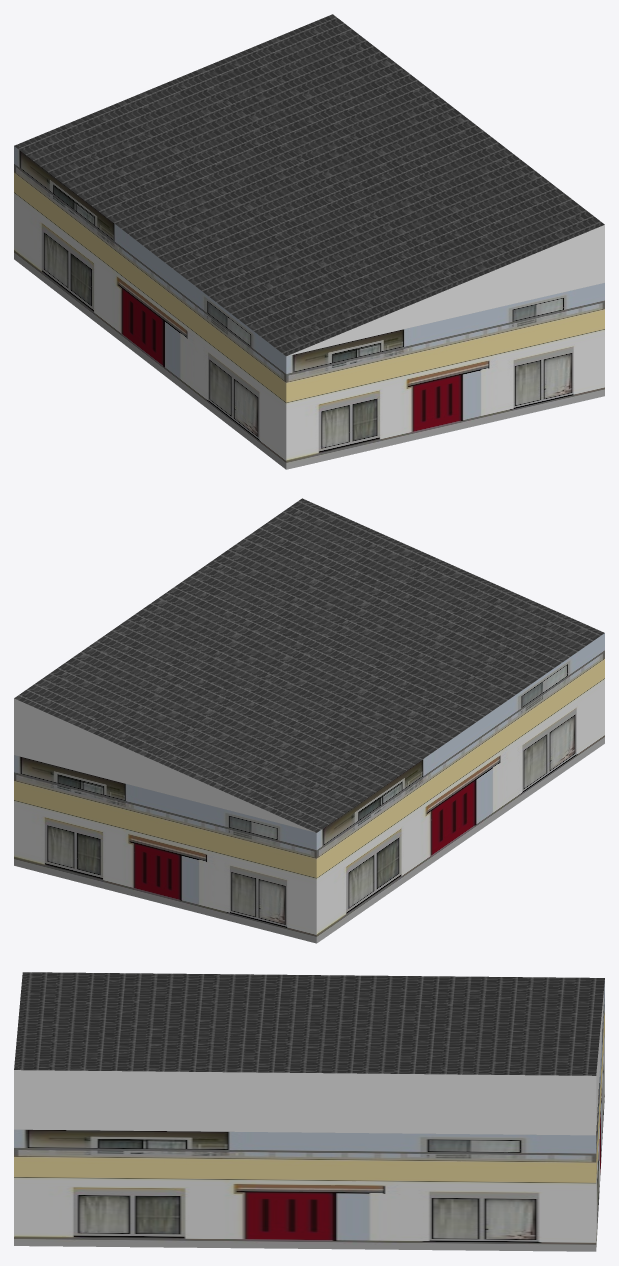
The picture shows the model from 3 angles, top to bottom: view 1: azimuth 30°, elevation 25°; view 2: azimuth 150°, elevation 25°; view 3: azimuth 270°, elevation 25°; orthographic projection. The views are drawn at different scales.
Visible parts, largest first — view 1: CityEngineMaterial_16_m, CityEngineMaterial_15_m, CityEngineMaterial_3_m; view 2: CityEngineMaterial_16_m, CityEngineMaterial_15_m, CityEngineMaterial_3_m; view 3: CityEngineMaterial_15_m, CityEngineMaterial_16_m, CityEngineMaterial_3_m.
Part boxes in pixels (left/top/right/bottom): CityEngineMaterial_16_m: left=14, top=14, right=604, bottom=356; CityEngineMaterial_15_m: left=14, top=146, right=604, bottom=469; CityEngineMaterial_3_m: left=288, top=225, right=604, bottom=355; CityEngineMaterial_16_m: left=14, top=498, right=604, bottom=832; CityEngineMaterial_15_m: left=14, top=633, right=604, bottom=943; CityEngineMaterial_3_m: left=14, top=698, right=315, bottom=832; CityEngineMaterial_15_m: left=14, top=981, right=604, bottom=1251; CityEngineMaterial_16_m: left=14, top=972, right=604, bottom=1075; CityEngineMaterial_3_m: left=14, top=980, right=604, bottom=1135.
Size of the model in its own units: 24.61 by 12.37 by 37.66.
